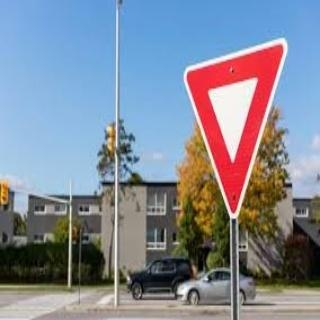sign_yield: (180, 37, 283, 218)
